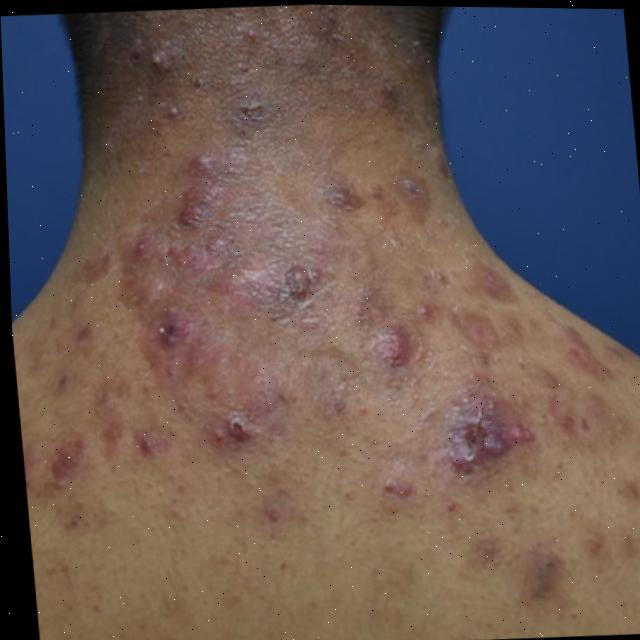Eczema: (0, 0, 640, 608)
